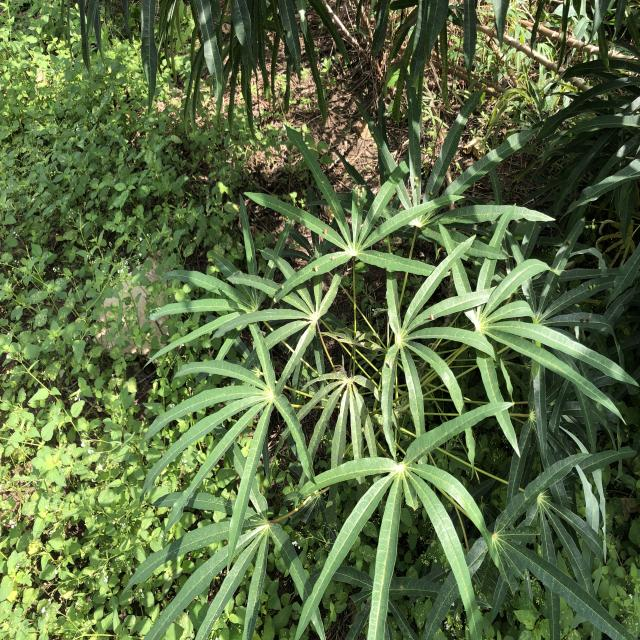Maleza: (0, 194, 139, 639), (2, 14, 190, 256)
Mosca: (309, 260, 328, 290), (316, 174, 333, 193), (316, 223, 329, 245), (381, 354, 395, 371), (427, 310, 441, 327), (353, 194, 366, 211), (582, 283, 604, 293), (560, 235, 576, 247), (412, 170, 421, 189), (426, 189, 437, 202), (572, 298, 585, 309)
